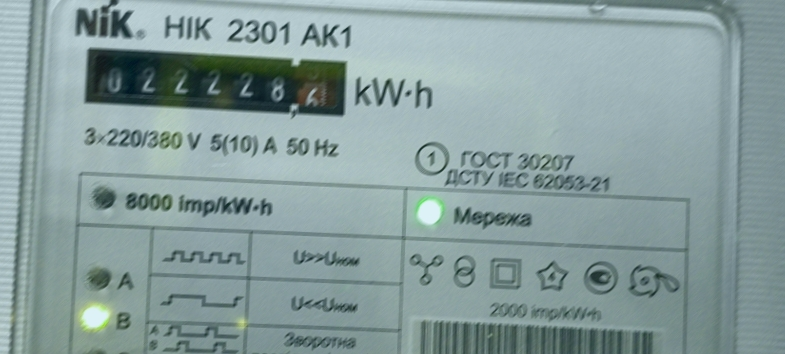0: (106, 64, 124, 93)
2: (139, 63, 159, 94), (173, 65, 191, 95), (239, 69, 257, 99), (205, 67, 224, 95)
5: (306, 61, 322, 81)
6: (304, 84, 322, 106)
8: (270, 74, 287, 102)
screen: (77, 36, 358, 125)
